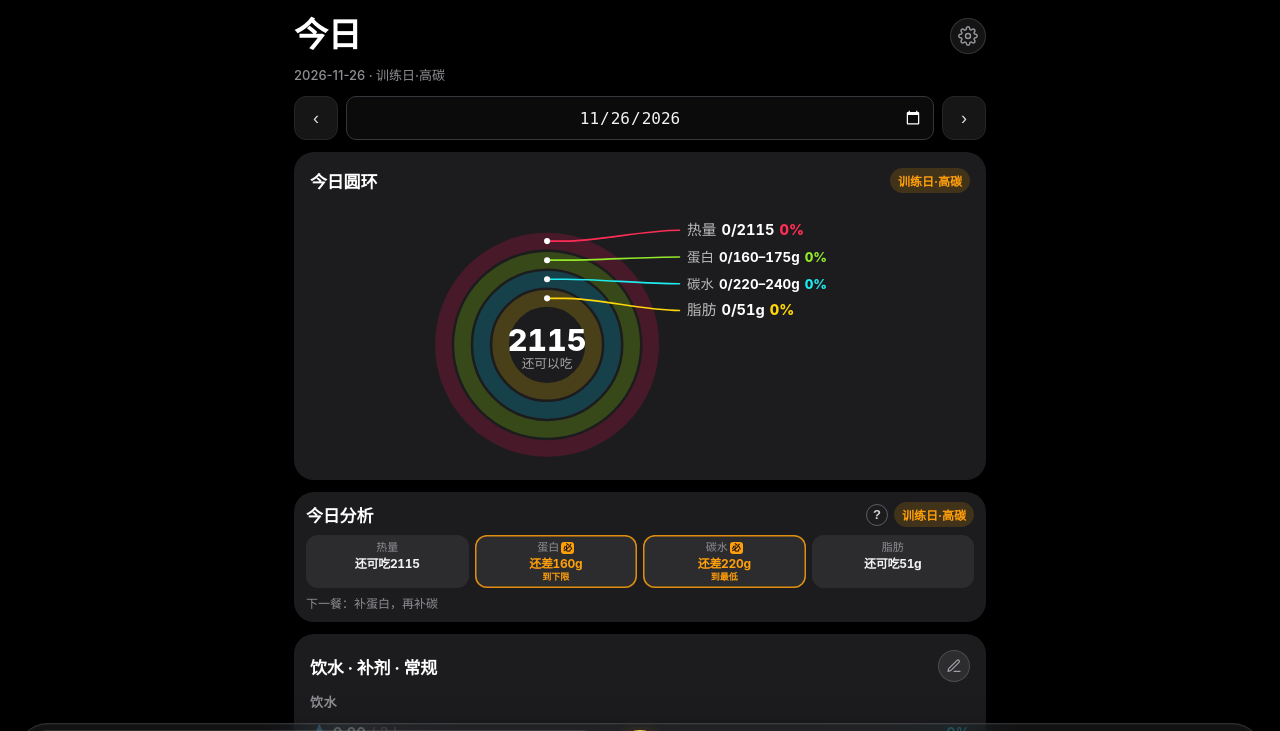
v46 whey defaults and my foods › says a scoop is 30g of powder
Click the button named "设置".
click(968, 36)  # box [950,18,986,54]
(page scrolled)
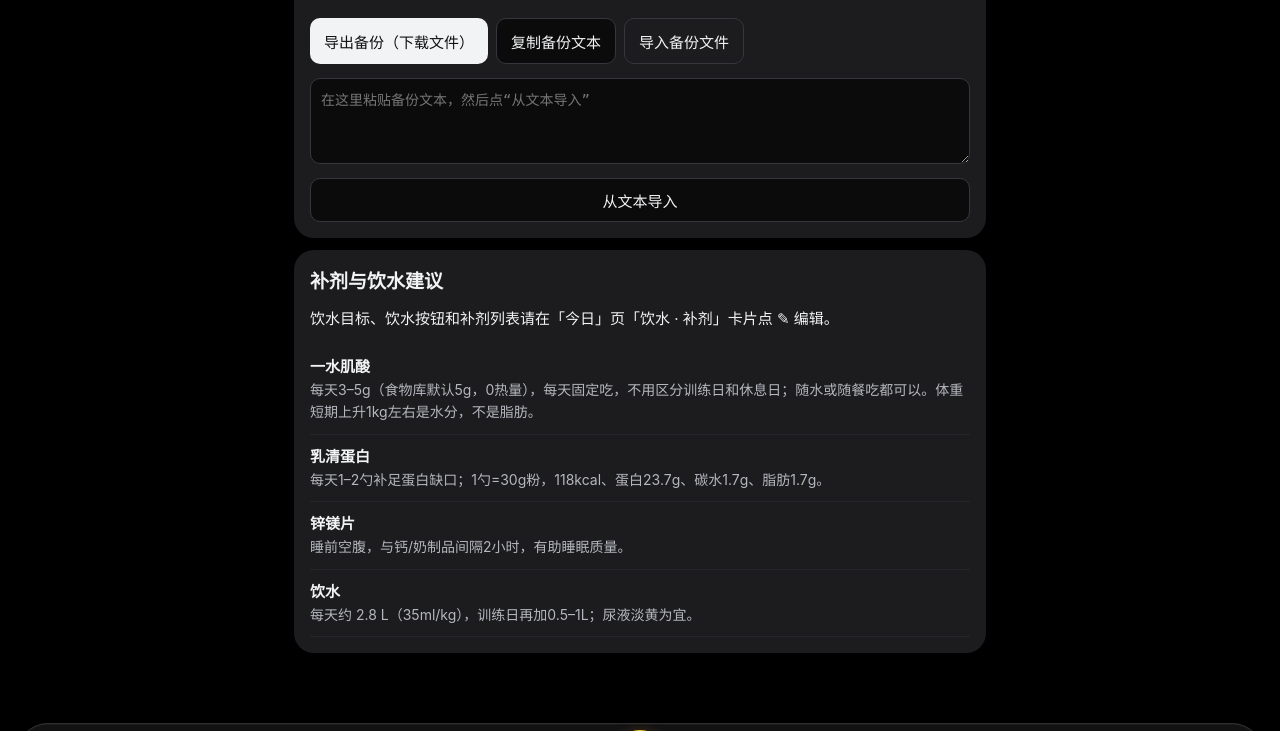
Now the text "每天1–2勺补足蛋白缺口；1勺=30g粉，118kcal、蛋白23.7g、碳水1.7g、脂肪1.7g。" is shown, box [310,471,830,488]
